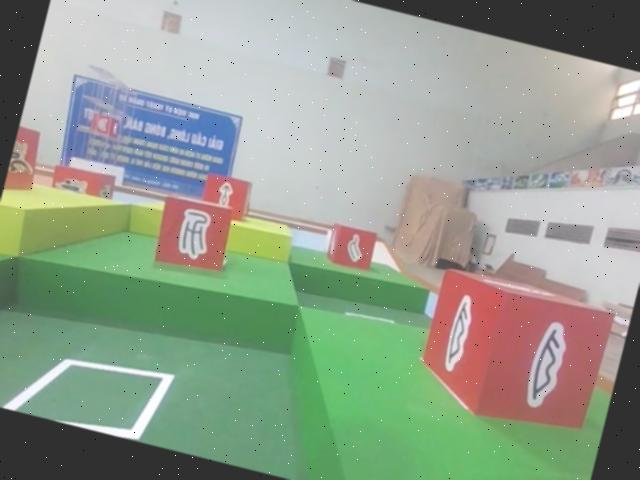R1: (2, 122, 48, 199)
R2 Fake: (145, 187, 239, 281)
R2 Real: (408, 260, 620, 441), (195, 168, 258, 225), (322, 222, 379, 274)
